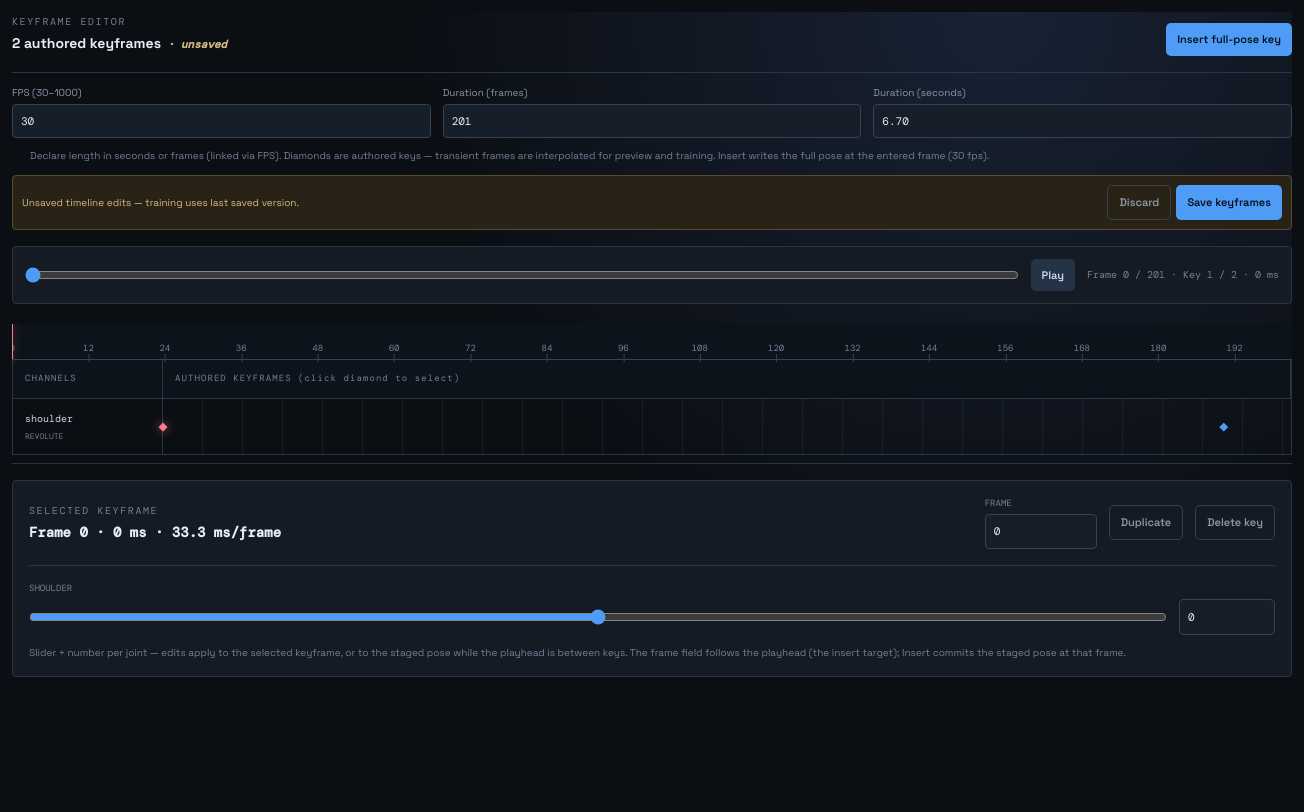
TimelinePanel selected keypose flow › inserts at the typed frame after scrubbing elsewhere
This screenshot has width=1304, height=812.
Set the slider named "Scrub keyframes" to "12" at (91, 275), box [25,267,1018,283]
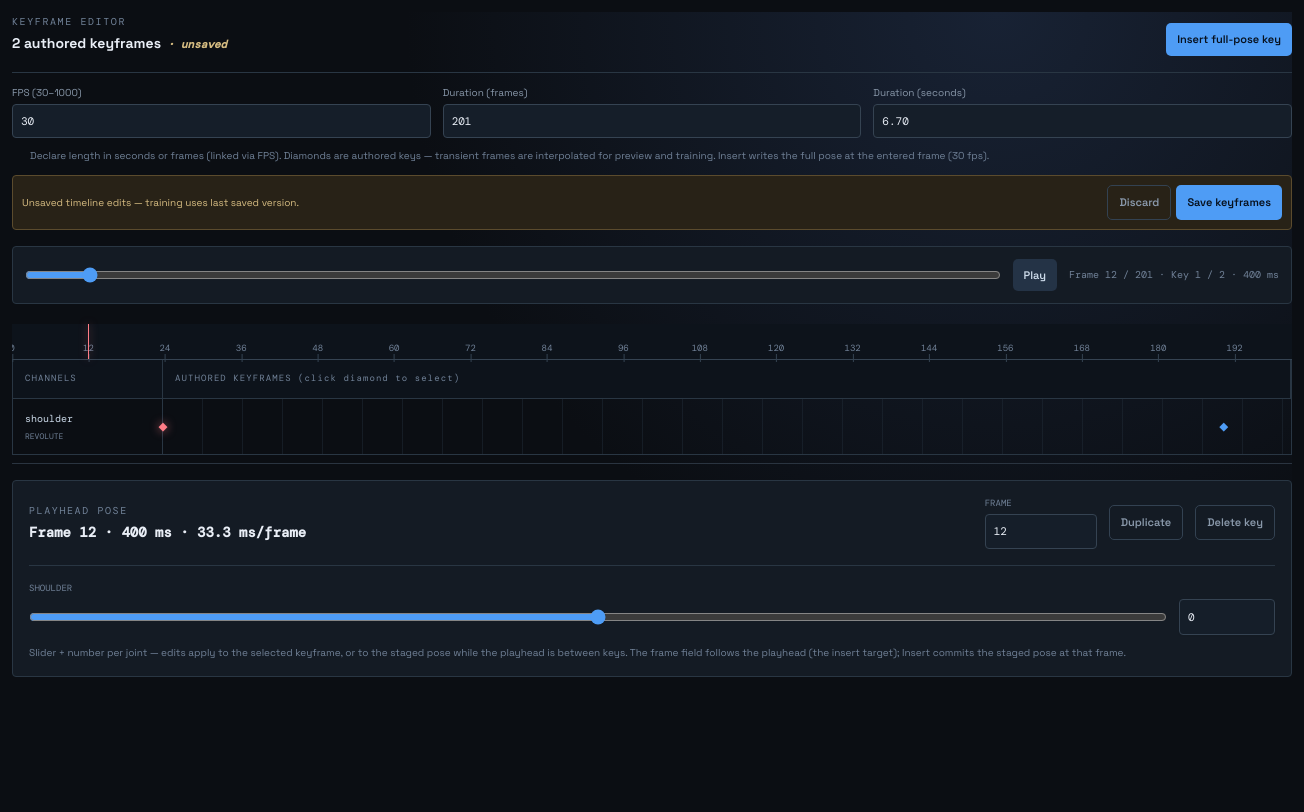
Result: the text "Frame 12 / 201 · Key 1 / 2 · 400 ms" is shown at [1069,267,1279,282]
Replace the text in the number field named "Insert frame" with "30" at (1041, 531), box [985,514,1097,548]
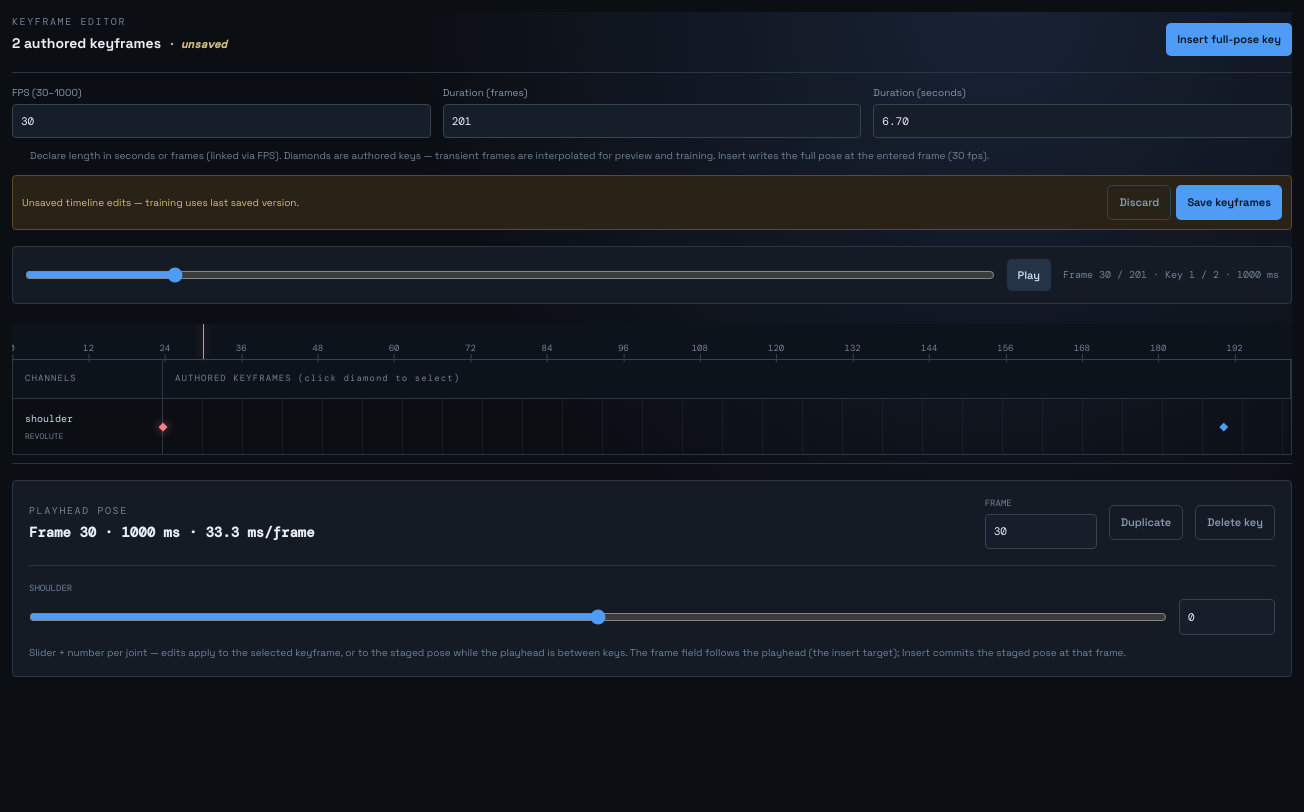
Replace the text in the number field named "shoulder at selected keyframe" with "0.5" at (1227, 617), box [1179,599,1275,635]
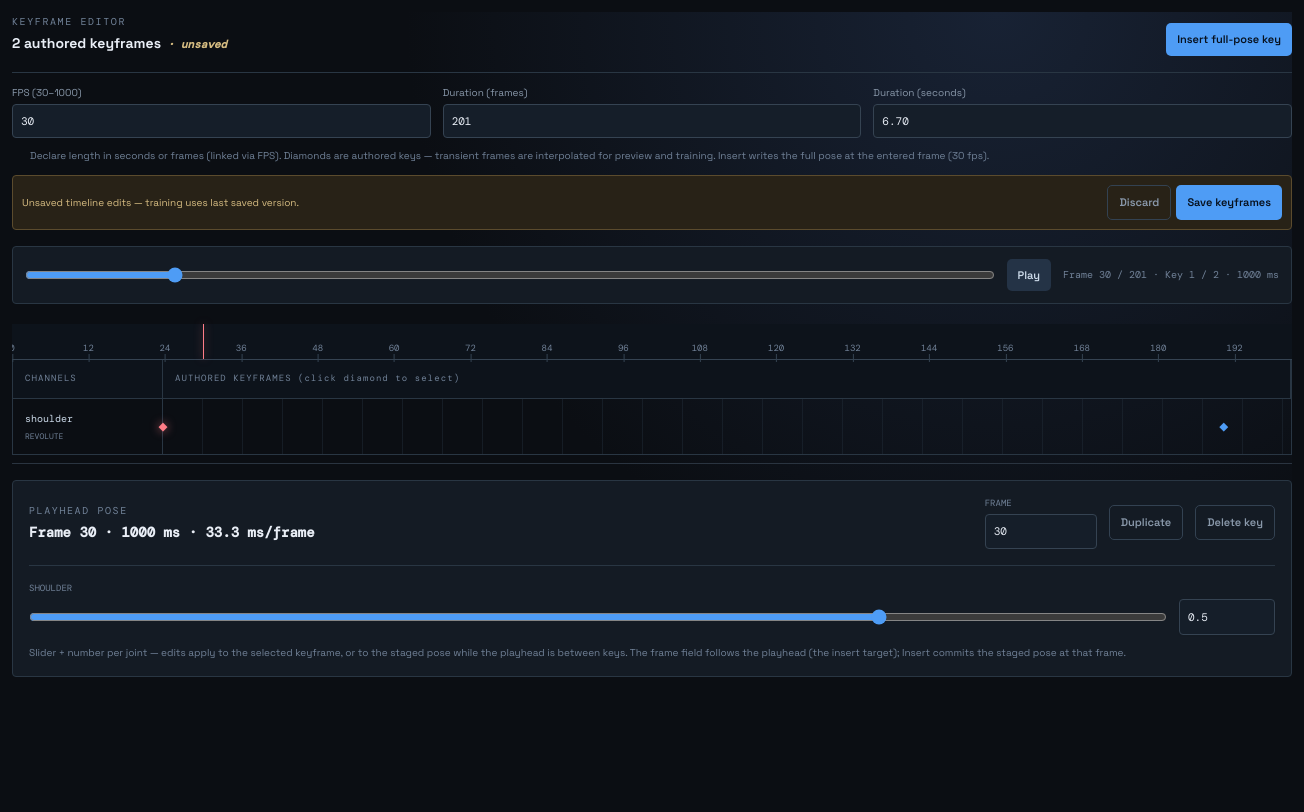
Click the button "Insert full-pose key" at (1229, 39), box [1166,23,1292,56]
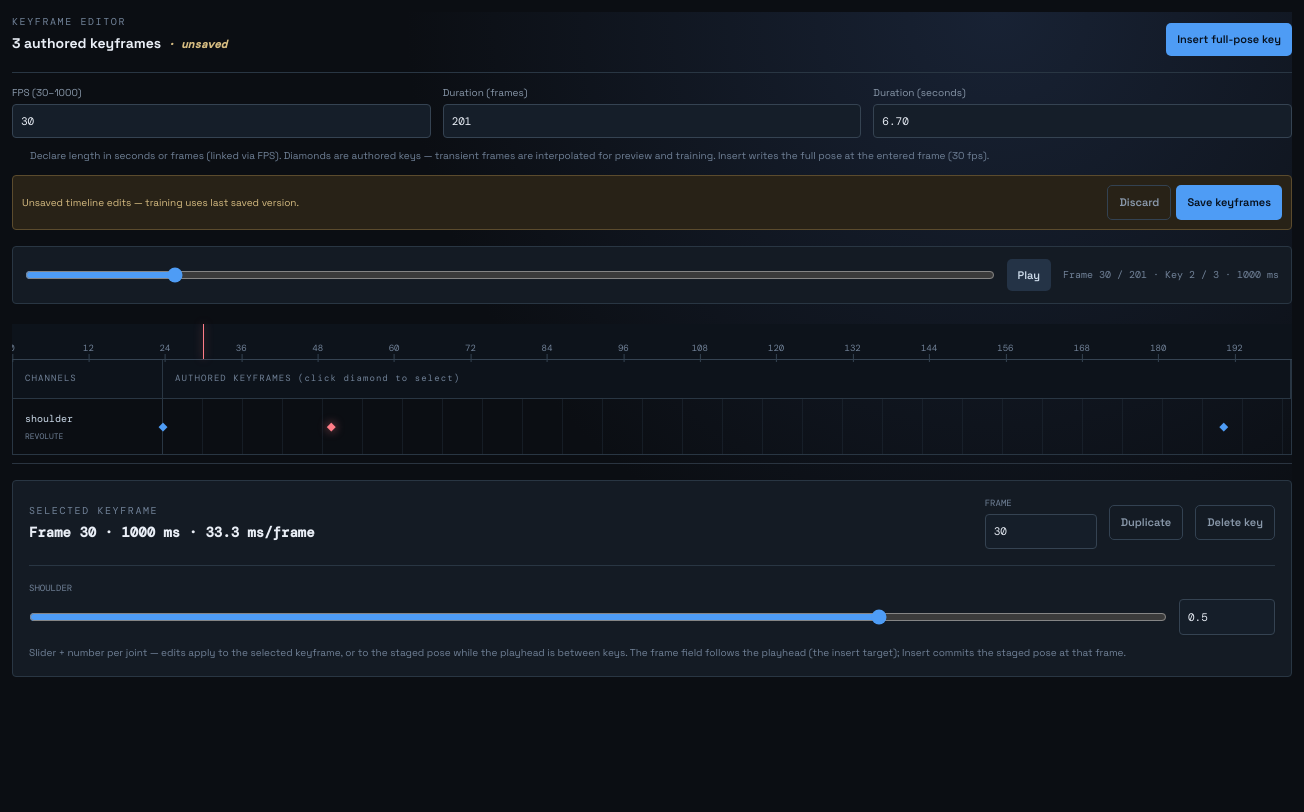
Result: the text "Frame 30 / 201 · Key 2 / 3 · 1000 ms" is shown at [1063,267,1279,282]
Result: the button named "Keyframe 2 at frame 30 for shoulder" is shown at [323,414,340,438]
